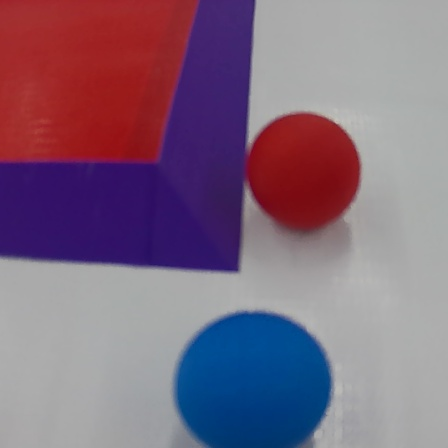blue: (173, 306, 333, 448)
red: (247, 111, 364, 236)
red_aim: (2, 0, 258, 277)
